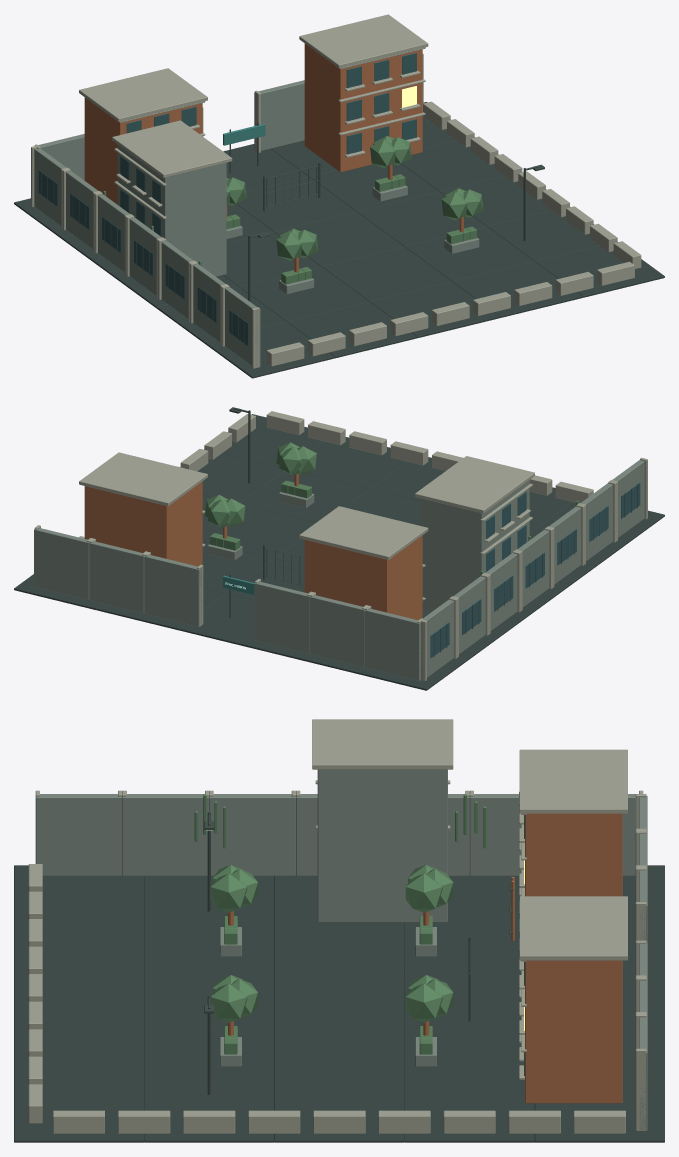
The model's file is chapter_apartments.glb.
3 renders of one model, top to bottom at view 1: azimuth 30°, elevation 25°; view 2: azimuth 150°, elevation 25°; view 3: azimuth 270°, elevation 25°, orthographic. The views are drawn at different scales.
Parts seen in each view (by area): view 1: chapter_apartments; view 2: chapter_apartments; view 3: chapter_apartments.
Boxes of the visible parts, <box> form: chapter_apartments: <box>14,14,664,378</box>; chapter_apartments: <box>14,407,664,690</box>; chapter_apartments: <box>14,719,664,1142</box>.
Bounding box in the file's own units: 30 × 8.26 × 30.
